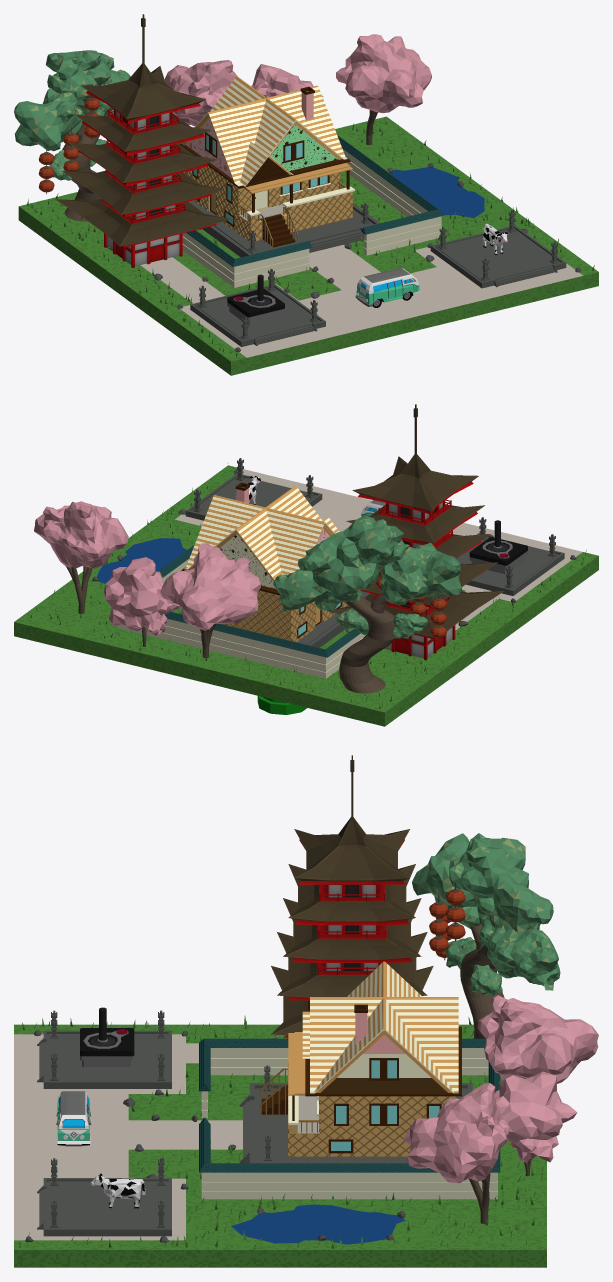
3 renders of one model, top to bottom at view 1: azimuth 30°, elevation 25°; view 2: azimuth 150°, elevation 25°; view 3: azimuth 270°, elevation 25°, orthographic. The views are drawn at different scales.
Visible parts, largest first — view 1: Cube.005, Cube.1102, VEHICLES_VAN, OBJRANDOM_JOYSTICK; view 2: Cube.005, Cube.1102, OBJRANDOM_JOYSTICK, UNDERGROUND_PIPES; view 3: Cube.005, Cube.1102, OBJRANDOM_JOYSTICK, VEHICLES_VAN, ANIMAL_VACA.
Part boxes in pixels (x1,y1,x2,y2): Cube.005: (14, 14, 598, 375); Cube.1102: (179, 76, 355, 248); VEHICLES_VAN: (355, 268, 420, 307); OBJRANDOM_JOYSTICK: (227, 274, 284, 325); Cube.005: (14, 404, 598, 726); Cube.1102: (181, 482, 347, 641); OBJRANDOM_JOYSTICK: (469, 520, 527, 574); UNDERGROUND_PIPES: (257, 696, 306, 714); Cube.005: (14, 755, 598, 1267); Cube.1102: (259, 961, 461, 1156); OBJRANDOM_JOYSTICK: (80, 1007, 134, 1066); VEHICLES_VAN: (56, 1091, 91, 1146); ANIMAL_VACA: (90, 1173, 145, 1208).
Bounding box in the file's own units: 4528 × 3273 × 4389.
41 materials, 6 textured.
